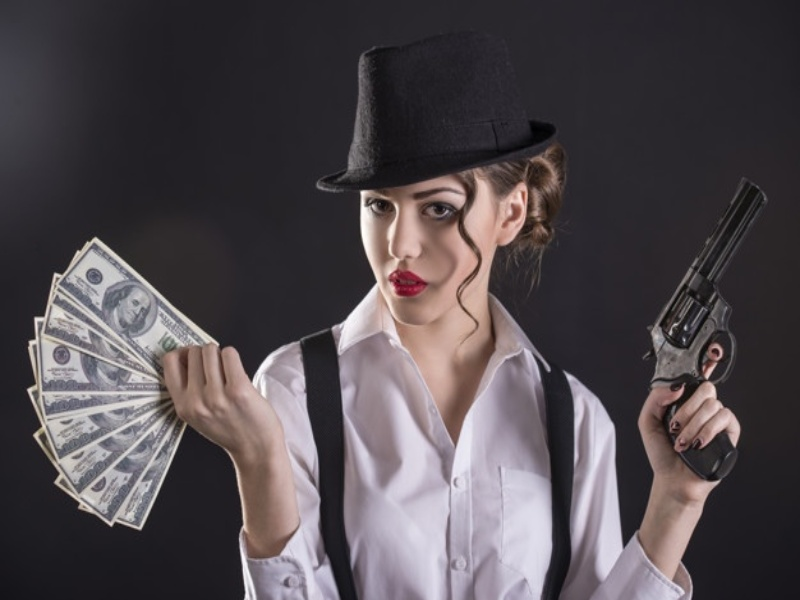cash: (26, 237, 220, 530)
person: (162, 31, 740, 600)
weapon: (642, 177, 768, 482)
